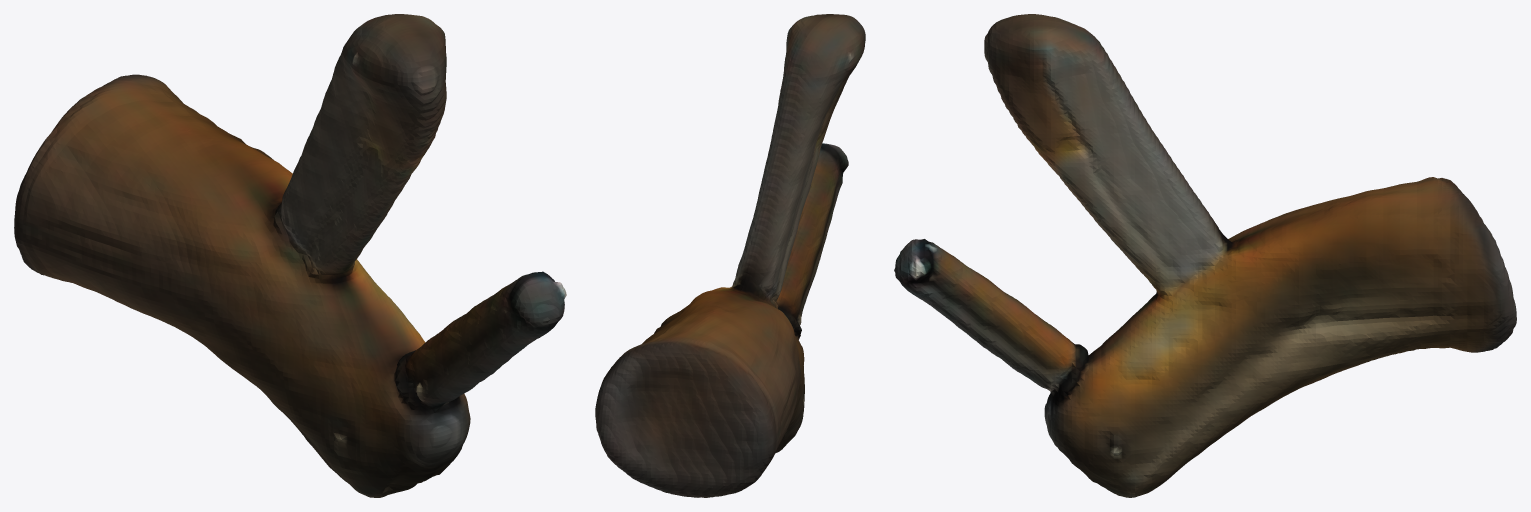
3 renders of one model, left to right at view 1: azimuth 30°, elevation 25°; view 2: azimuth 150°, elevation 25°; view 3: azimuth 270°, elevation 25°, orthographic. The views are drawn at different scales.
Bounding box in the file's own units: 0.4307 × 0.8168 × 1.01.
